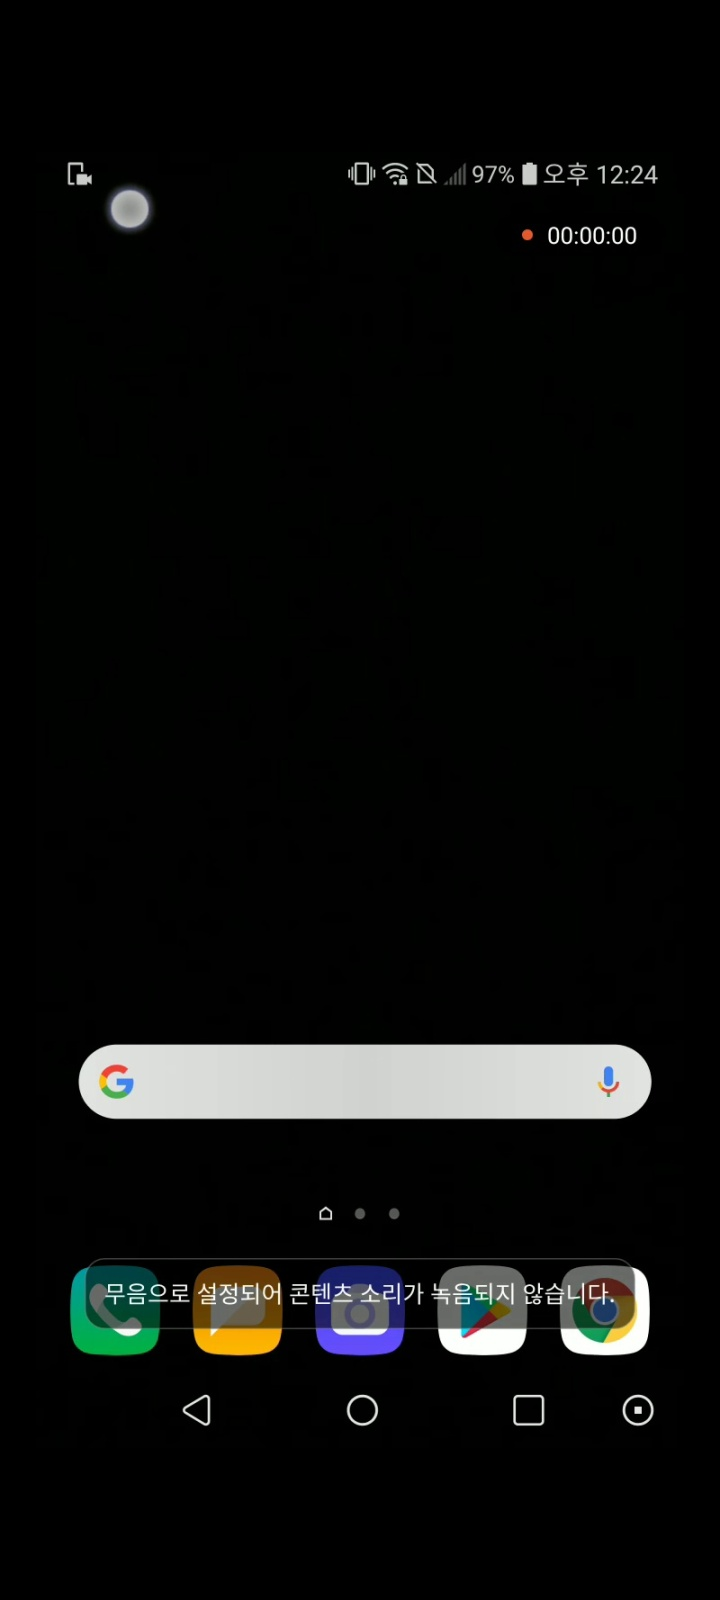Cursor: (108, 187, 153, 233)
